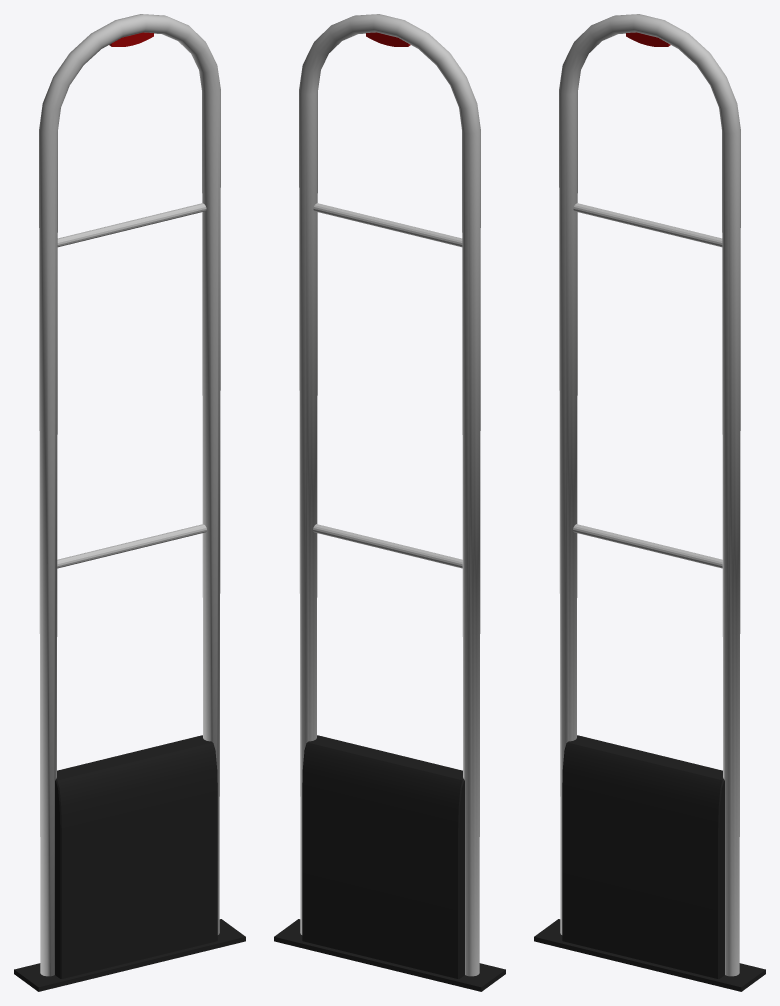
The model's file is anti-theft_gate.glb.
3 renders of one model, left to right at view 1: azimuth 30°, elevation 25°; view 2: azimuth 150°, elevation 25°; view 3: azimuth 330°, elevation 25°, orthographic.
Visible parts, largest first — view 1: Cube.001; view 2: Cube.001; view 3: Cube.001.
Boxes of the visible parts, bbox=[...] form: Cube.001: bbox=[14, 14, 245, 991]; Cube.001: bbox=[274, 14, 505, 991]; Cube.001: bbox=[534, 14, 765, 991].
Bounding box in the file's own units: 41.68 × 181 × 8.51.
Materials: 1 (1 with a texture image).
